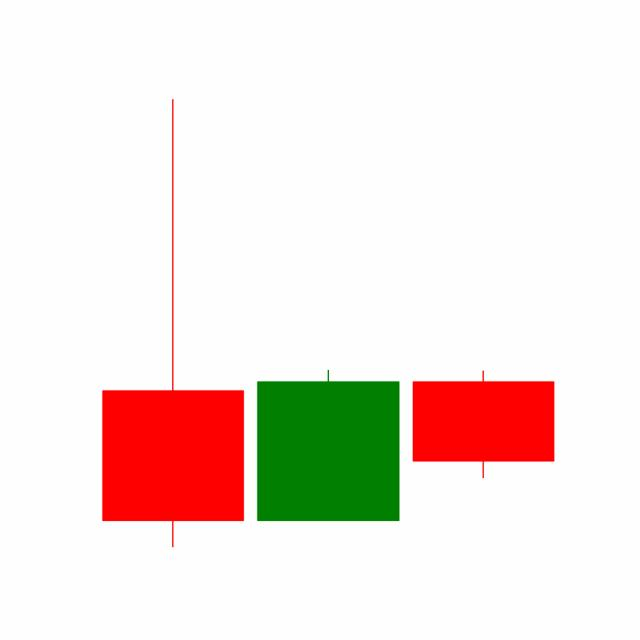Marubozu: (249, 368, 406, 522)
